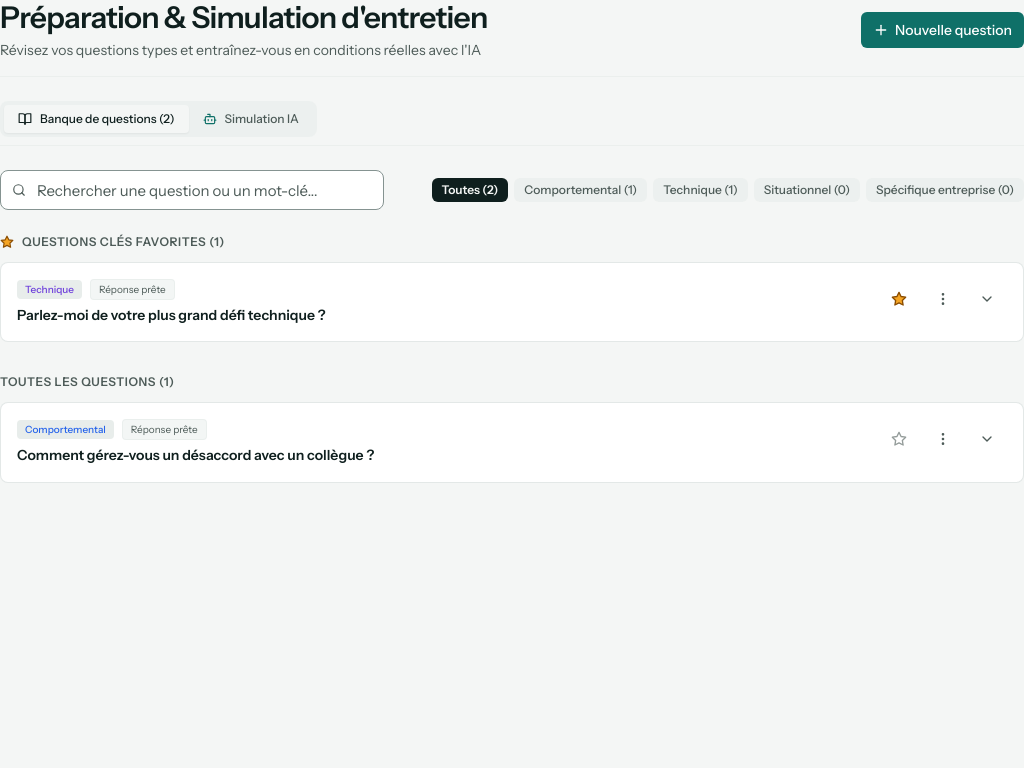
Test: Page: InterviewPrepPage › opens create question dialog with STAR method guide toggle
The width and height of the screenshot is (1024, 768).
What coordinates should you click on to do the following:
click the button "Nouvelle question"
I would click on:
 (943, 30)
Its box is [861,12,1023,48].
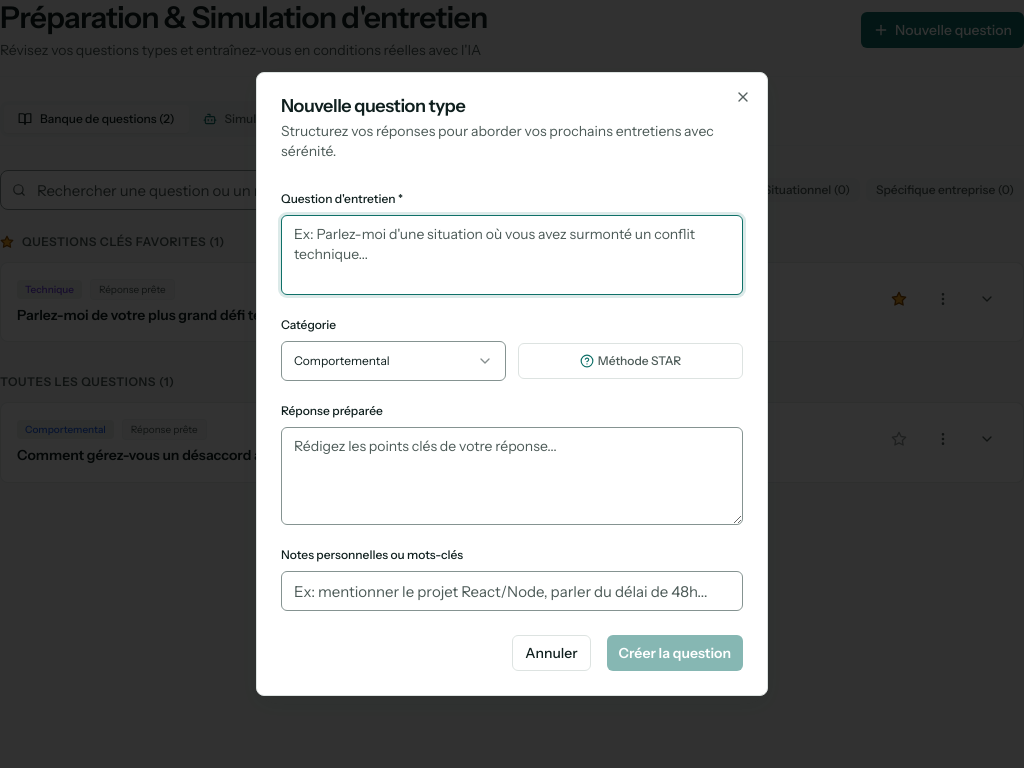
Expected: the heading "Nouvelle question type" is shown, [281,95,465,117]
Expected: the button "Méthode STAR" is shown
// Toggle STAR guide
What coordinates should you click on to do the following:
click the button "Méthode STAR"
I would click on:
 (630, 361)
Its box is [518,343,743,379].
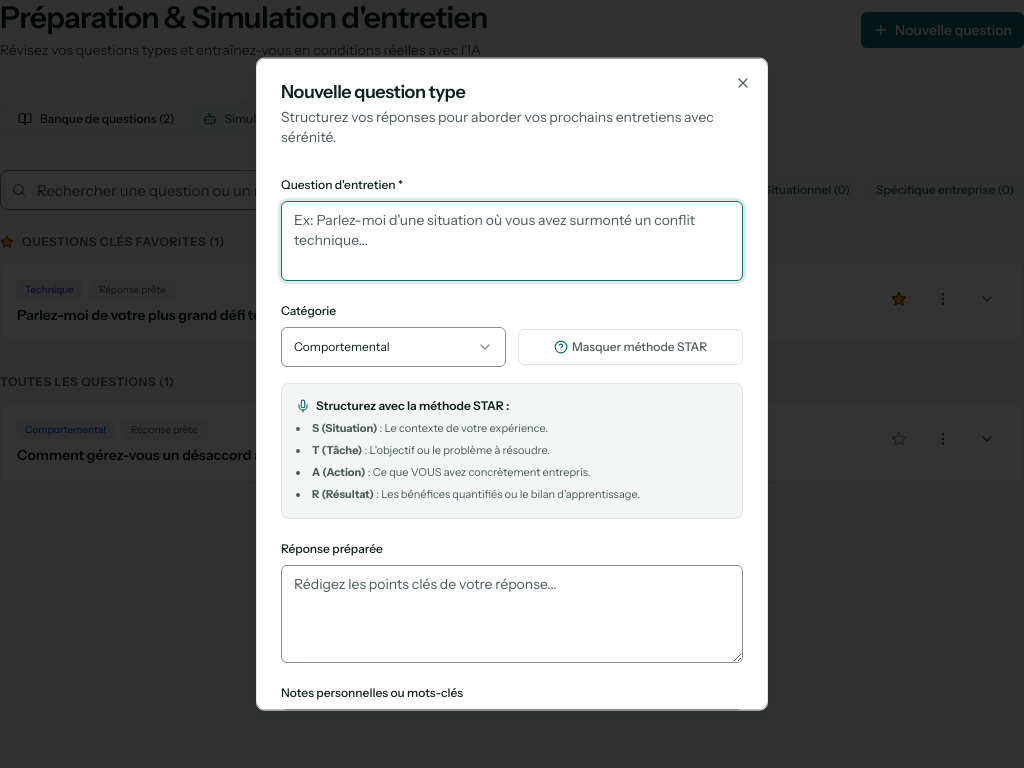
Expected: the text "Structurez avec la méthode STAR :" is shown, [296,398,509,413]
Expected: the text "S (Situation)" is shown, [312,421,377,435]
